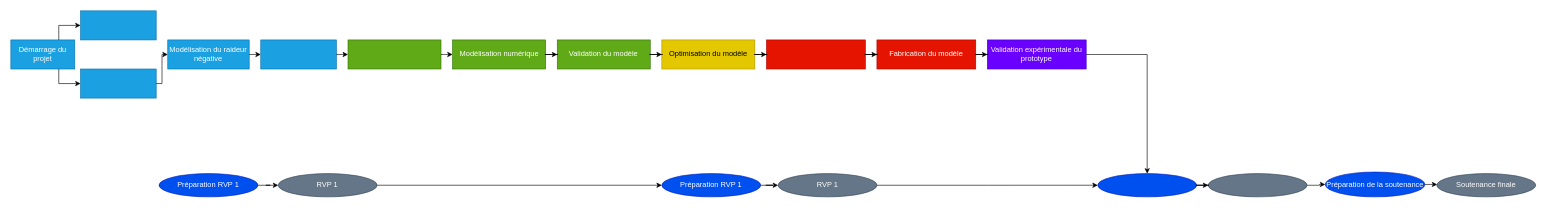
This 1547x208 diagram has some shape labels left out. Here are the shapes that lost their labels. From the top down, the centre of each, then its label:
At (x=118, y=25): "Organisation Gantt et Pert".
At (x=298, y=54): "Modélisation d’un TMD".
At (x=394, y=54): "Bibliographie Association en série".
At (x=815, y=54): "Conception 3D d’un nouvel absorbeur".
At (x=118, y=83): "Bibliographie Initiale".
At (x=1147, y=185): "Finalisation du rapport".
At (x=1257, y=185): "Remise du livrable".
